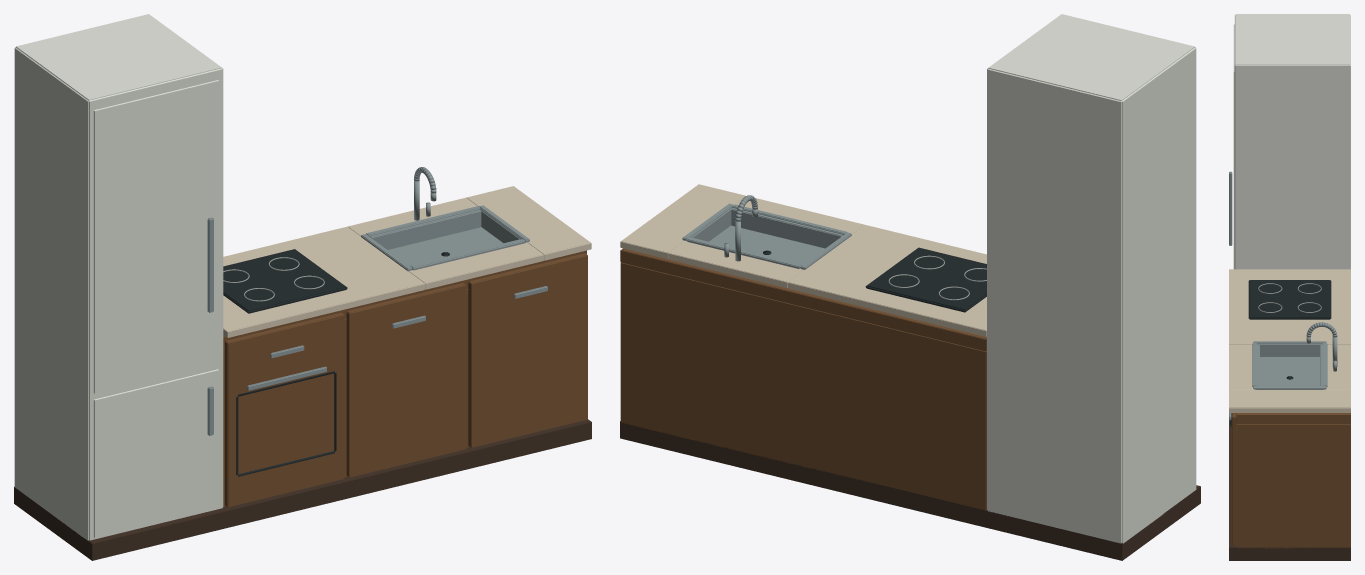
File: kitchen.glb
The picture shows the model from 3 angles, left to right: view 1: azimuth 30°, elevation 25°; view 2: azimuth 150°, elevation 25°; view 3: azimuth 270°, elevation 25°; orthographic projection. The views are drawn at different scales.
Parts seen in each view (by area): view 1: TallRefrigerator, FridgeUpperDoor, CupboardFront.001, CupboardFront.002, CupboardFront, FridgeFreezerDoor, ContinuousKitchenPlinth, CounterLeft, BlackCeramicHob, CounterRight, CounterSinkSurround.001, SinkBottom (+5 smaller); view 2: TallRefrigerator, ClosedLowerCabinets, ContinuousKitchenPlinth, CounterLeft, CounterSupportRail, BlackCeramicHob, CounterRight, CounterSinkSurround, SinkBottom, SinkEnd.001, CounterSinkSurround.001; view 3: TallRefrigerator, ClosedLowerCabinets, CounterLeft, BlackCeramicHob, CounterRight, ContinuousKitchenPlinth, SinkBottom, CounterSideSupport.001, CounterSinkSurround.001, CounterSinkSurround, CupboardFront.002, SinkSide (+6 smaller).
Boxes of the visible parts, x1,y1,x2,y2 form: TallRefrigerator: (14, 14, 223, 540); FridgeUpperDoor: (93, 80, 218, 393); CupboardFront.001: (346, 283, 466, 477); CupboardFront.002: (468, 253, 587, 447); CupboardFront: (225, 312, 344, 507); FridgeFreezerDoor: (93, 369, 218, 537); ContinuousKitchenPlinth: (14, 419, 591, 560); CounterLeft: (223, 226, 424, 337); BlackCeramicHob: (223, 249, 347, 313); CounterRight: (466, 186, 591, 260); CounterSinkSurround.001: (408, 242, 543, 289); SinkBottom: (388, 227, 502, 266); TallRefrigerator: (987, 14, 1196, 543); ClosedLowerCabinets: (620, 262, 986, 510); ContinuousKitchenPlinth: (620, 421, 1200, 560); CounterLeft: (787, 225, 986, 336); CounterSupportRail: (621, 248, 986, 350); BlackCeramicHob: (865, 247, 986, 312); CounterRight: (620, 184, 745, 259); CounterSinkSurround: (668, 241, 804, 288); SinkBottom: (709, 225, 824, 264); SinkEnd.001: (731, 208, 843, 248); CounterSinkSurround.001: (735, 198, 865, 234); TallRefrigerator: (1234, 14, 1350, 269); ClosedLowerCabinets: (1236, 424, 1350, 548); CounterLeft: (1229, 269, 1350, 344); BlackCeramicHob: (1248, 280, 1331, 319); CounterRight: (1229, 390, 1350, 412); ContinuousKitchenPlinth: (1229, 420, 1350, 560); SinkBottom: (1260, 357, 1319, 385); CounterSideSupport.001: (1236, 413, 1350, 423); CounterSinkSurround.001: (1229, 344, 1255, 389); CounterSinkSurround: (1324, 344, 1350, 389); CupboardFront.002: (1231, 413, 1236, 545); SinkSide: (1257, 344, 1322, 356).
Bounding box in the file's own units: 2.4 × 2.1 × 0.65.
